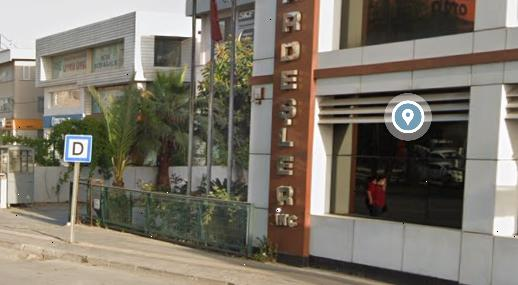station: (65, 135, 92, 163)
